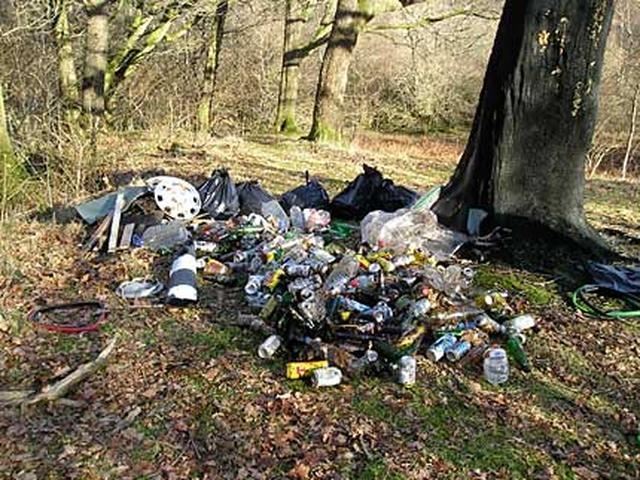garbage: (276, 189, 459, 381), (138, 183, 416, 287)
